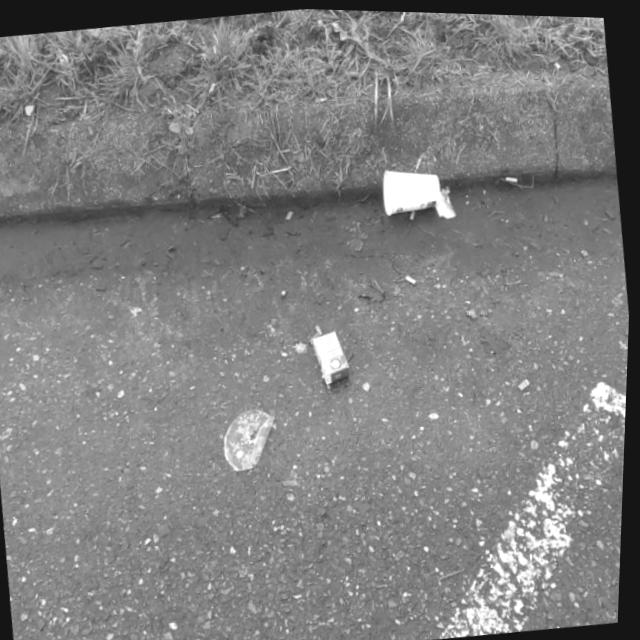Cup: (379, 160, 446, 216)
